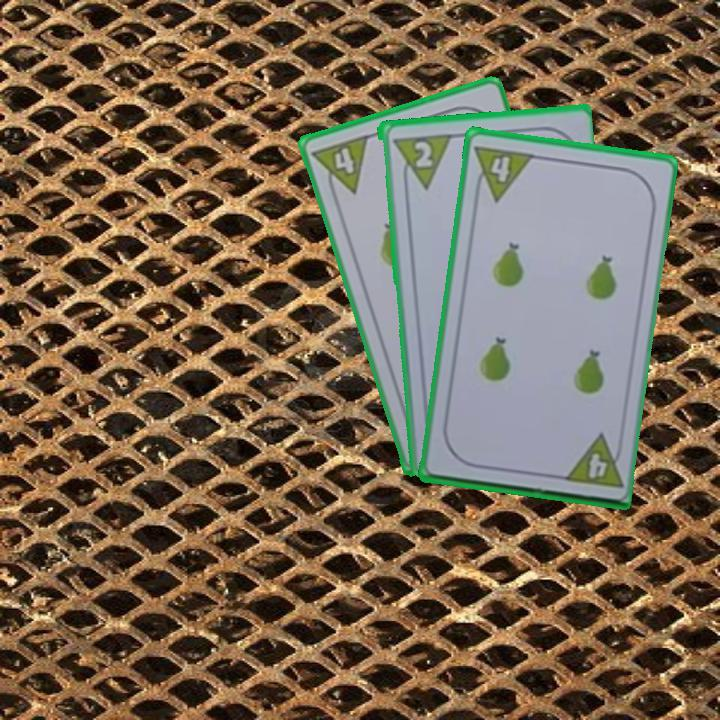2p: (409, 137, 435, 170)
4p: (308, 130, 372, 202), (470, 142, 536, 204), (559, 431, 626, 491)
